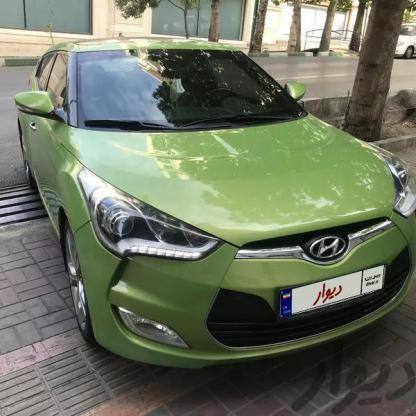Car: (0, 33, 416, 383)
